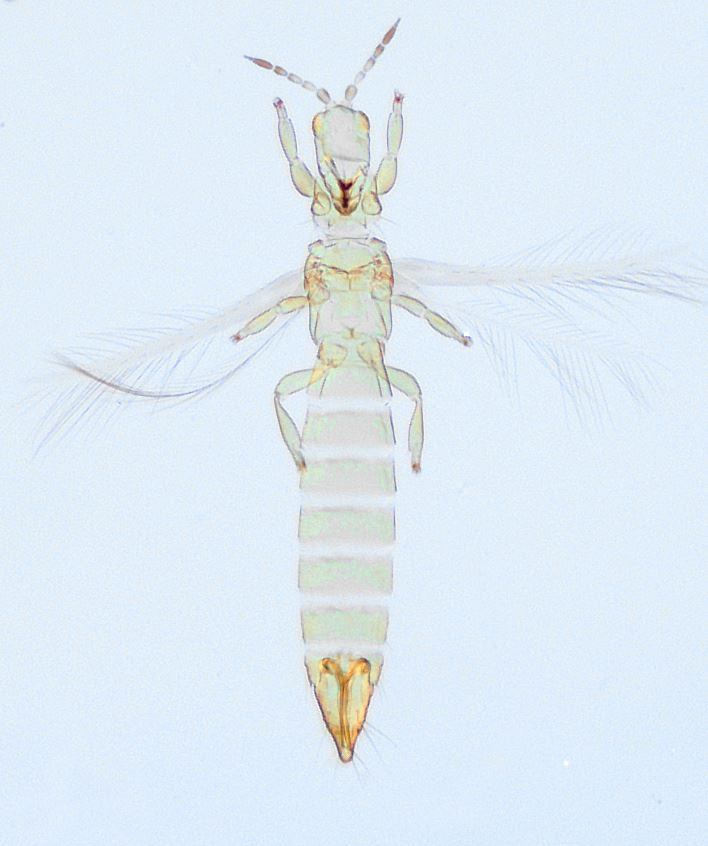Thripidae: (16, 10, 708, 787)
